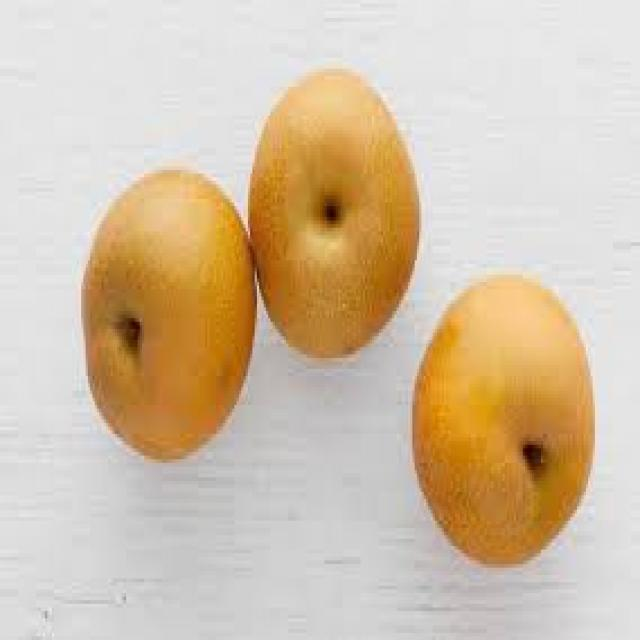Pear: (415, 280, 598, 567), (82, 170, 258, 459), (250, 69, 421, 358)
